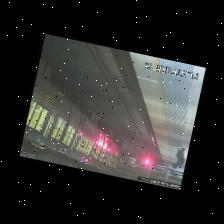person: (172, 148, 184, 168)
